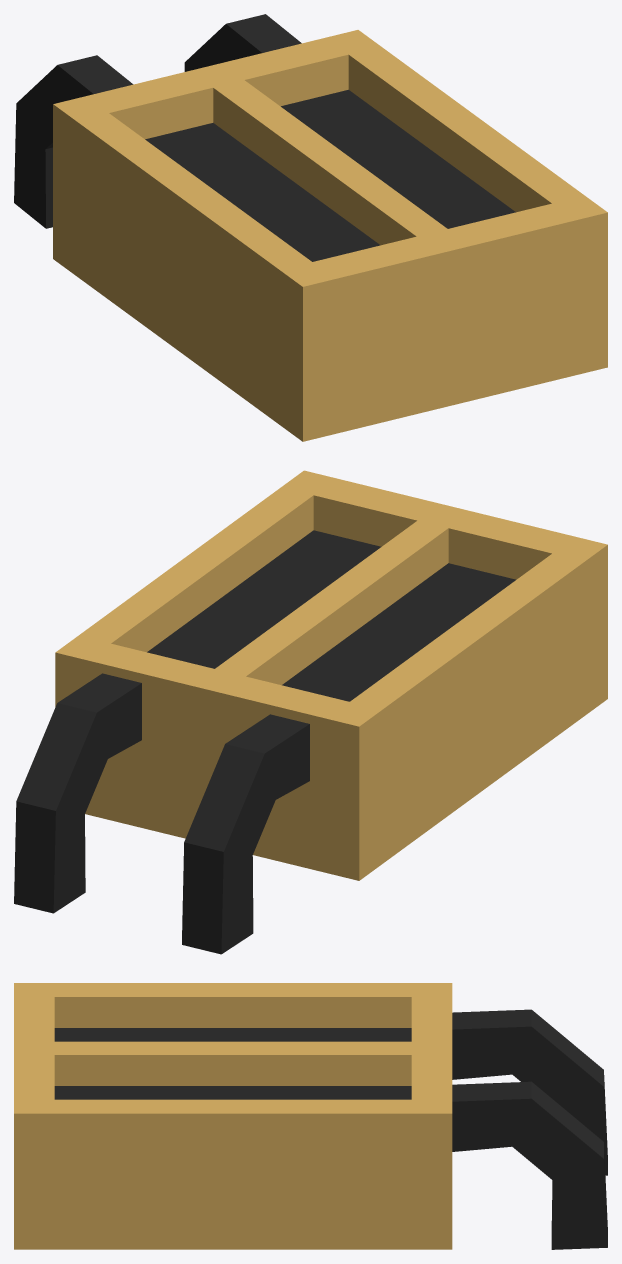
Rendered from Ventilation.fbx.
The picture shows the model from 3 angles, top to bottom: view 1: azimuth 30°, elevation 25°; view 2: azimuth 150°, elevation 25°; view 3: azimuth 270°, elevation 25°; orthographic projection. The views are drawn at different scales.
Parts seen in each view (by area): view 1: Ventilation; view 2: Ventilation; view 3: Ventilation.
Boxes of the visible parts, box(x1,y1,x2,y2) form: Ventilation: box(14, 14, 607, 441); Ventilation: box(14, 470, 607, 954); Ventilation: box(14, 983, 607, 1249).
Bounding box in the file's own units: 1.02 × 0.567 × 1.95.
